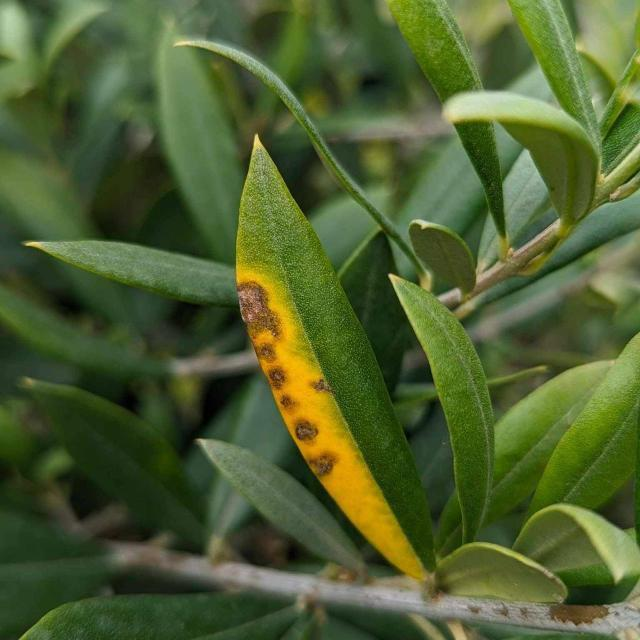OlivePeacockSpot: (237, 136, 435, 580)
